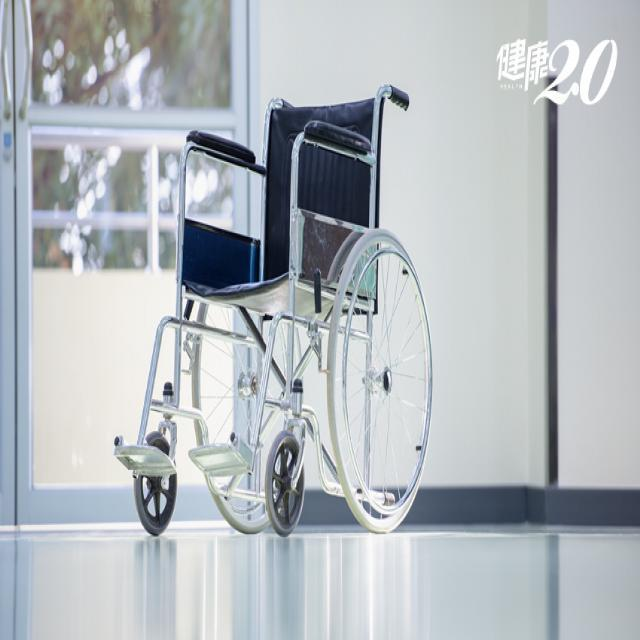wheelchairs: (121, 89, 438, 539)
